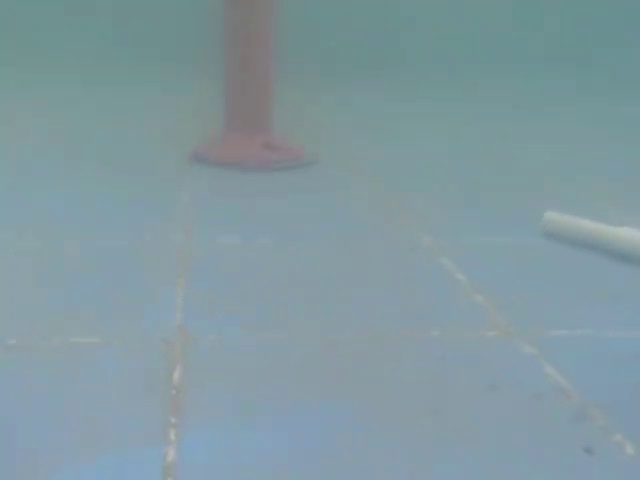flare: (190, 0, 314, 184)
